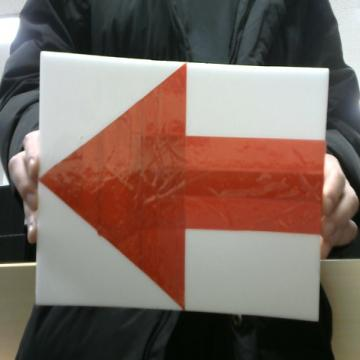red_right: (39, 64, 325, 308)
